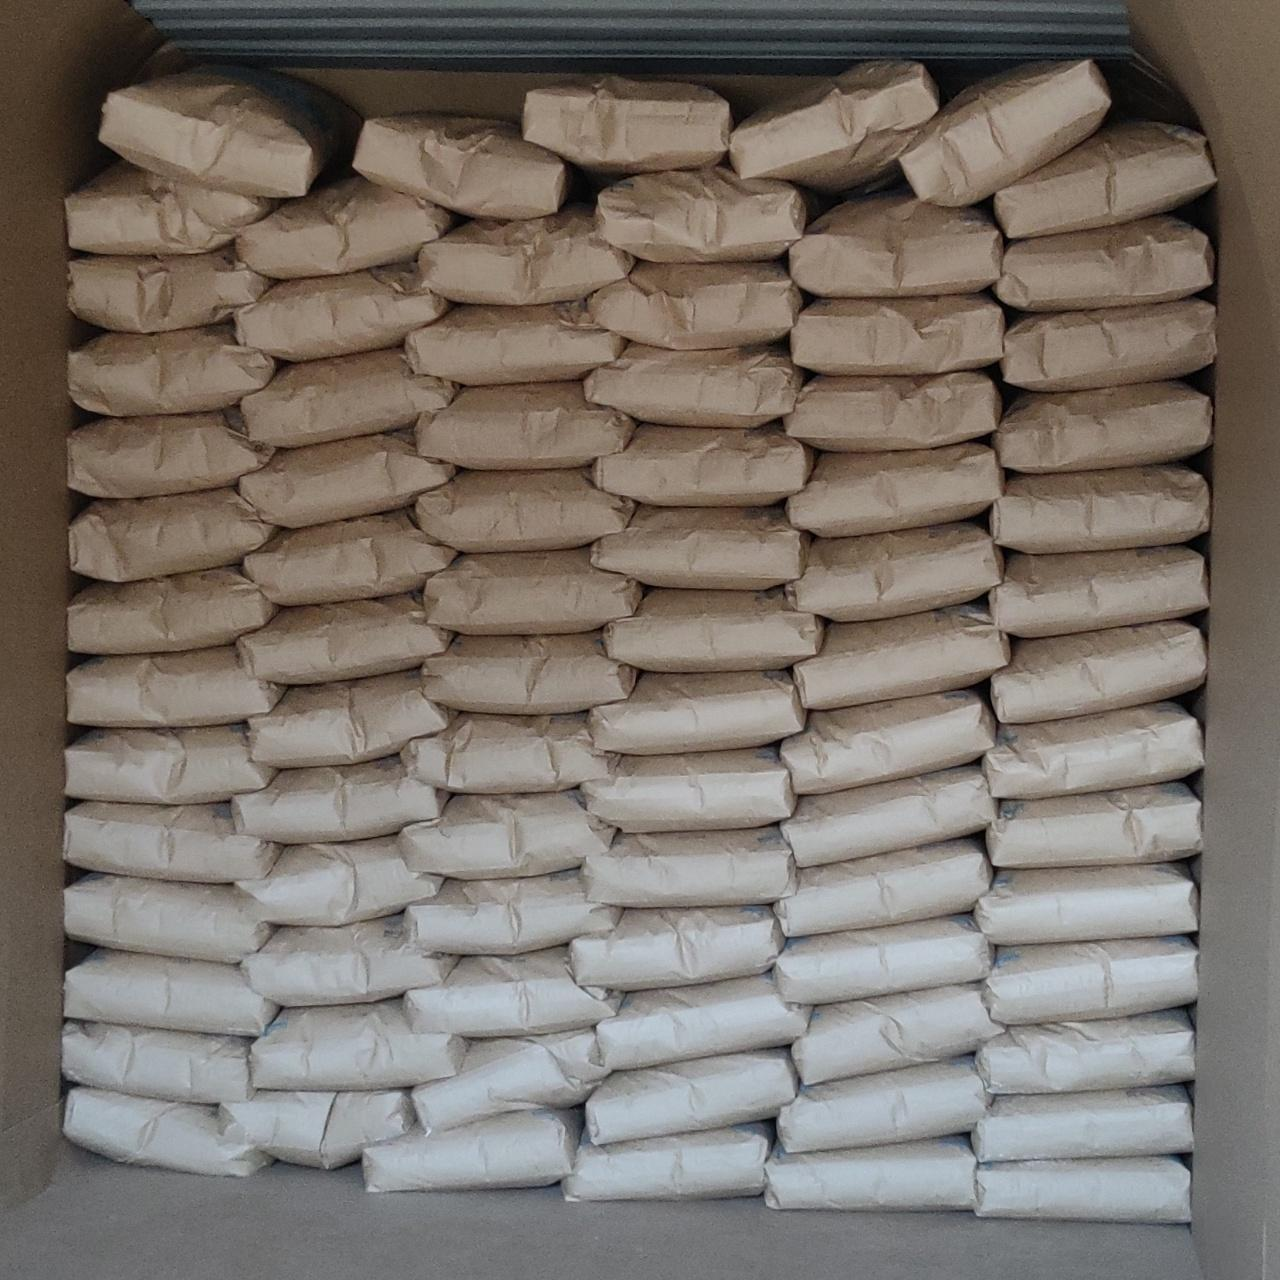sack: (100, 66, 358, 196), (904, 60, 1108, 202), (730, 61, 939, 189), (996, 120, 1214, 238), (794, 604, 1006, 708), (238, 176, 454, 278), (792, 192, 1000, 294), (356, 116, 568, 216), (784, 690, 994, 790), (788, 522, 1000, 620), (241, 348, 456, 445), (784, 765, 994, 864), (776, 838, 990, 934), (983, 704, 1201, 798), (992, 622, 1204, 719), (420, 206, 632, 302), (794, 986, 1000, 1084), (996, 216, 1212, 309), (524, 76, 730, 173), (240, 433, 454, 526), (595, 168, 810, 260), (990, 546, 1206, 636), (246, 510, 454, 604), (788, 444, 1002, 535), (779, 1058, 990, 1150), (68, 162, 275, 254), (236, 266, 445, 358), (414, 1030, 606, 1130), (1002, 300, 1214, 390), (250, 672, 454, 765), (598, 976, 806, 1068), (70, 488, 275, 580), (994, 382, 1210, 470), (244, 914, 454, 1005), (588, 1051, 796, 1142), (406, 948, 618, 1036), (776, 915, 990, 1002), (70, 324, 275, 414), (240, 594, 450, 682), (252, 1000, 467, 1085), (400, 792, 614, 878), (418, 382, 629, 468), (234, 756, 445, 842), (590, 263, 799, 348), (983, 938, 1196, 1022), (992, 467, 1206, 550), (236, 836, 438, 924), (64, 1088, 270, 1175), (66, 949, 275, 1034), (976, 1010, 1192, 1092), (586, 343, 802, 425), (66, 874, 270, 960), (606, 590, 822, 670), (424, 549, 640, 629), (988, 784, 1200, 866), (406, 870, 618, 952), (592, 508, 806, 588), (583, 748, 794, 830), (406, 302, 622, 382), (572, 906, 782, 988), (976, 864, 1196, 942), (592, 424, 813, 502), (68, 646, 282, 726), (70, 568, 275, 652), (416, 470, 629, 550), (365, 1110, 580, 1189), (64, 802, 278, 880), (792, 294, 1002, 374), (592, 672, 804, 750), (424, 632, 636, 710), (70, 410, 270, 493), (70, 248, 270, 332), (787, 372, 998, 450), (584, 828, 794, 906), (402, 714, 614, 790), (66, 726, 275, 802), (974, 1085, 1190, 1158), (564, 1124, 770, 1198), (64, 1022, 250, 1102), (765, 1138, 974, 1208), (220, 1092, 411, 1166), (976, 1158, 1189, 1223)
